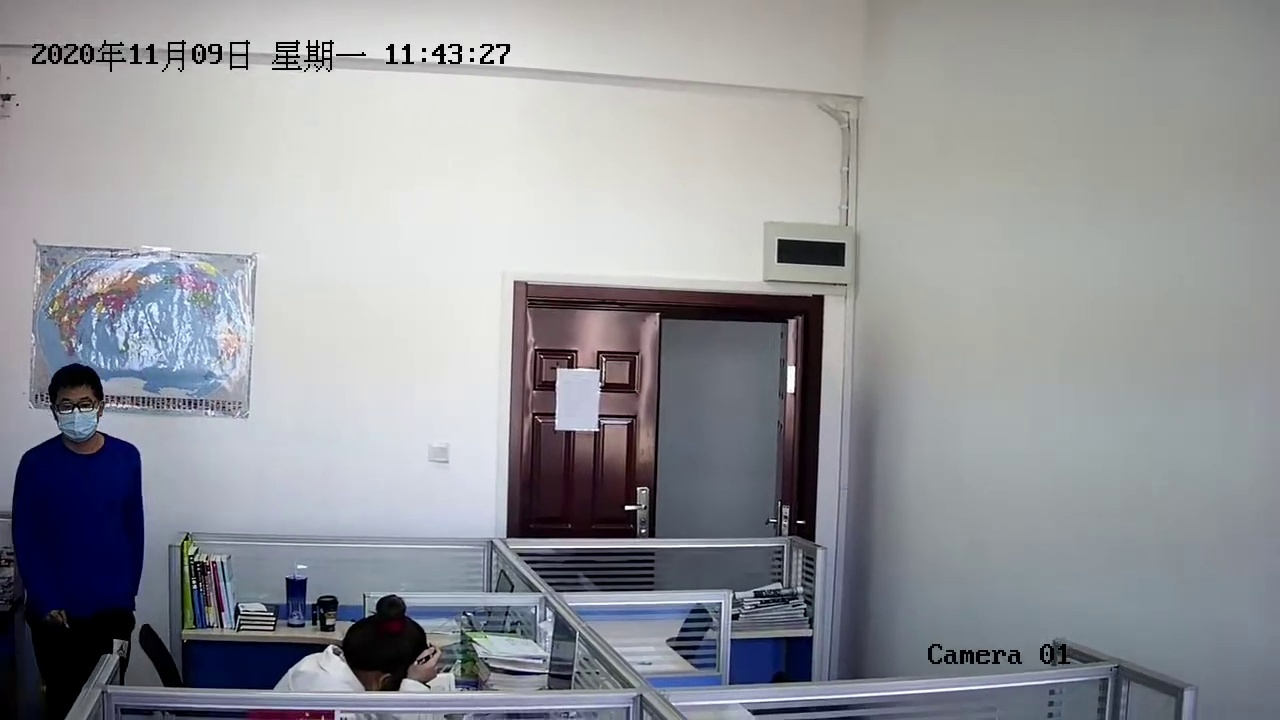mask: (53, 377, 108, 444)
